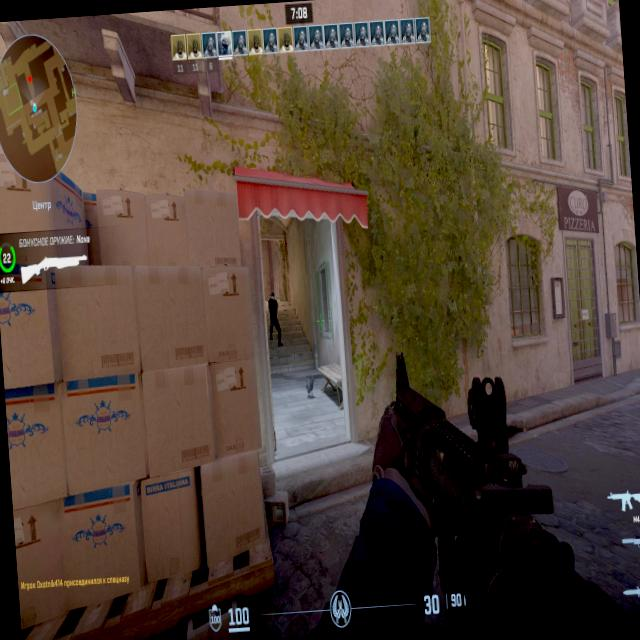CT: (264, 291, 282, 343)
CT_heat: (268, 292, 274, 301)
